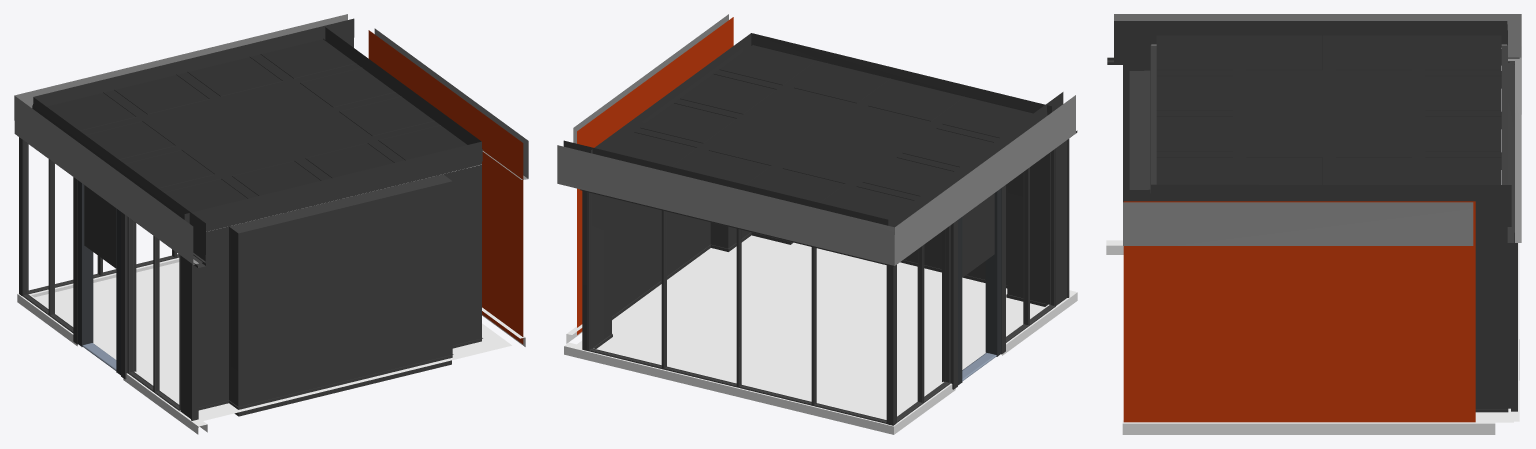
File: SM_H_Building_Tide_Loungehall_18_ATLAS.fbx
3 renders of one model, left to right at view 1: azimuth 30°, elevation 25°; view 2: azimuth 150°, elevation 25°; view 3: azimuth 270°, elevation 25°, orthographic. The views are drawn at different scales.
Parts seen in each view (by area): view 1: SM_H_Building_Tide_Loungehall_18_ATLAS; view 2: SM_H_Building_Tide_Loungehall_18_ATLAS; view 3: SM_H_Building_Tide_Loungehall_18_ATLAS.
Boxes of the visible parts, bbox=[...] form: SM_H_Building_Tide_Loungehall_18_ATLAS: bbox=[14, 14, 528, 434]; SM_H_Building_Tide_Loungehall_18_ATLAS: bbox=[557, 14, 1077, 434]; SM_H_Building_Tide_Loungehall_18_ATLAS: bbox=[1106, 14, 1521, 434].
Size of the model in its own units: 915 by 853 by 537.
